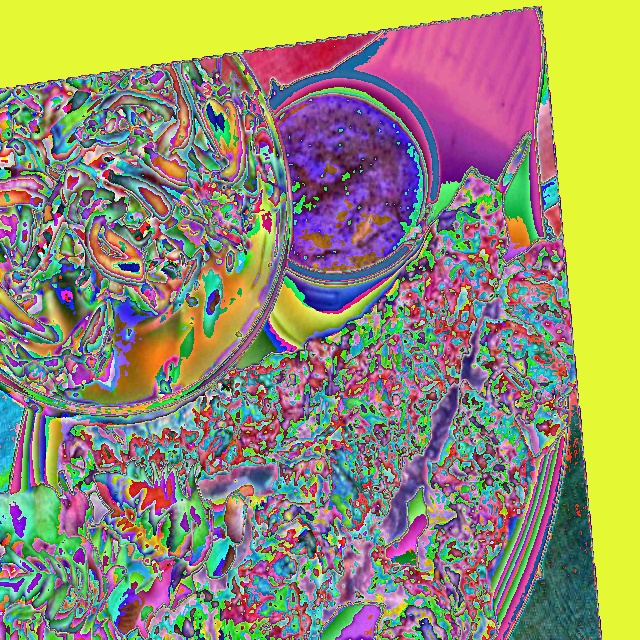background: (0, 56, 577, 639), (16, 14, 142, 639)
